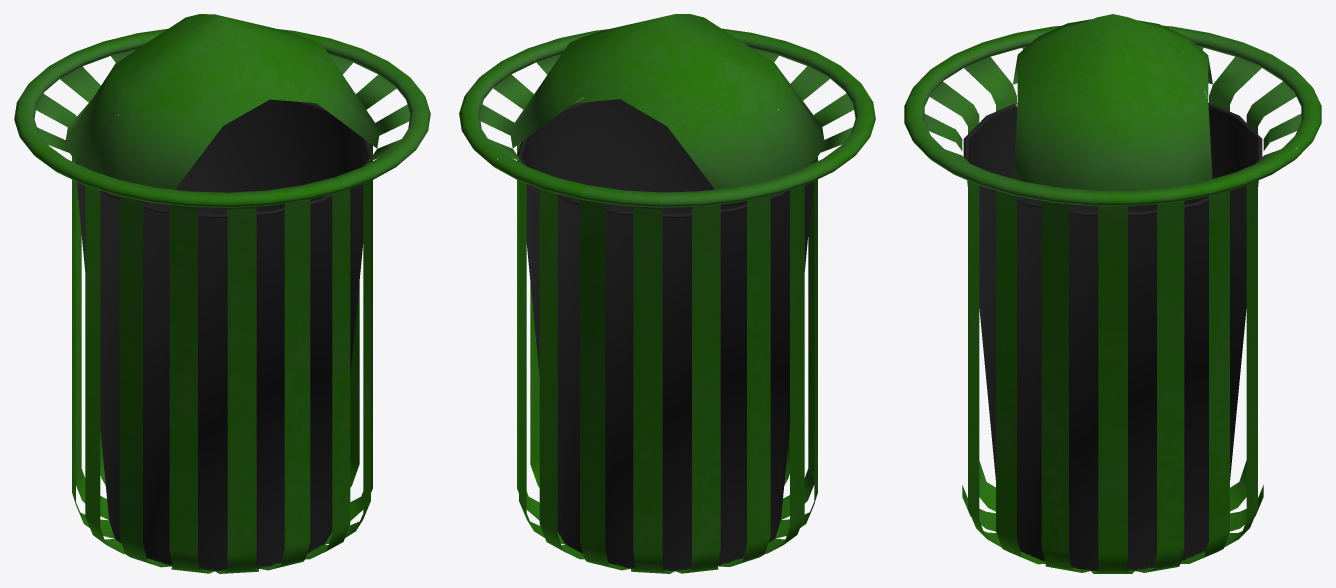
File: trash_bin.fbx
The picture shows the model from 3 angles, left to right: view 1: azimuth 30°, elevation 25°; view 2: azimuth 150°, elevation 25°; view 3: azimuth 270°, elevation 25°; orthographic projection.
Visible parts, largest first — view 1: bin; view 2: bin; view 3: bin.
Part boxes in pixels (bbox=[...]): bin: bbox=[14, 14, 430, 573]; bin: bbox=[459, 14, 875, 573]; bin: bbox=[904, 14, 1321, 573].
Bounding box in the file's own units: 86.12 × 116 × 86.12.
1 material, 1 textured.
